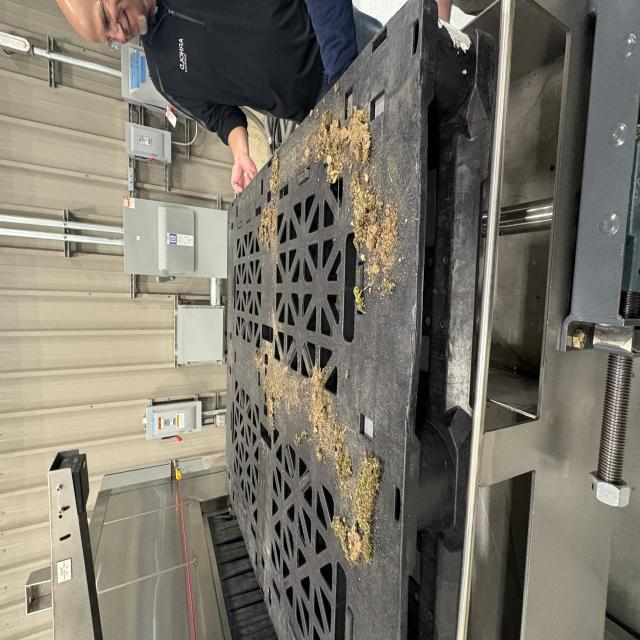igps: (221, 0, 504, 640)
